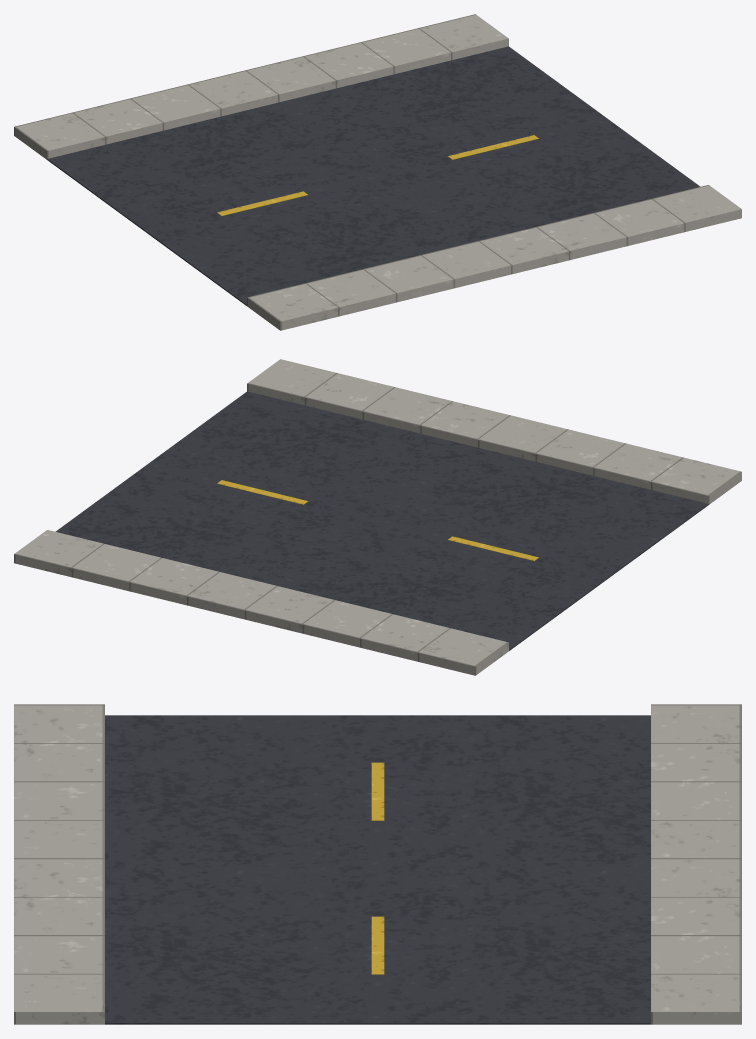
Rendered from road_straight.glb.
3 renders of one model, top to bottom at view 1: azimuth 30°, elevation 25°; view 2: azimuth 150°, elevation 25°; view 3: azimuth 270°, elevation 25°, orthographic. The views are drawn at different scales.
Parts seen in each view (by area): view 1: Ground; view 2: Ground; view 3: Ground.
Boxes of the visible parts, <box> form: Ground: <box>14,14,741,330</box>; Ground: <box>14,359,741,675</box>; Ground: <box>14,704,741,1024</box>.
Bounding box in the file's own units: 8 × 0.15 × 8.
Materials: 3 (3 with a texture image).
